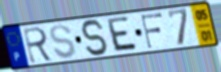7: (167, 7, 191, 48)
E: (106, 15, 140, 53)
F: (140, 12, 164, 51)
R: (22, 25, 55, 65)
S: (79, 18, 111, 58), (49, 23, 77, 60)
